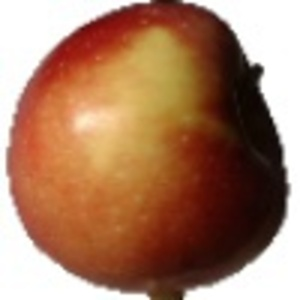maçã braeburn: (10, 2, 292, 292)
